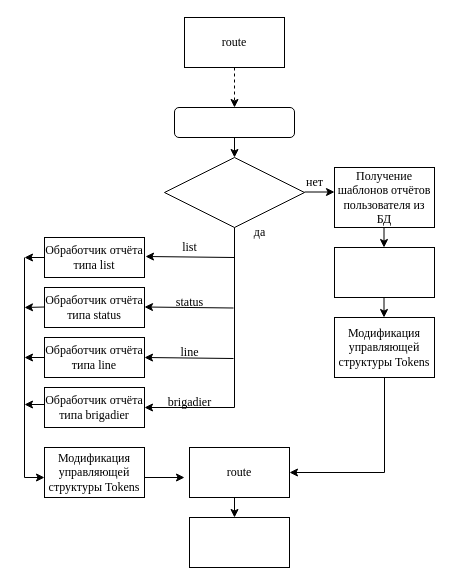
Image size: 452x585. Some labels were removed from this diagram. Here are the shapes that lost their labels. From the top down, the centre of each, then its label:
the point at 234,122: Начало action_reports (Tokens)
the point at 234,192: Выбран тип отчёта ?
the point at 384,272: Формирование InlineKeyboard. Кнопка - отчёт
the point at 239,542: Отправка сообщения
